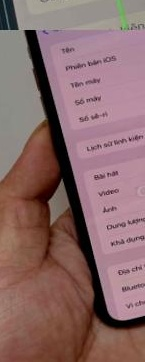screen_defect: (55, 0, 145, 30)
